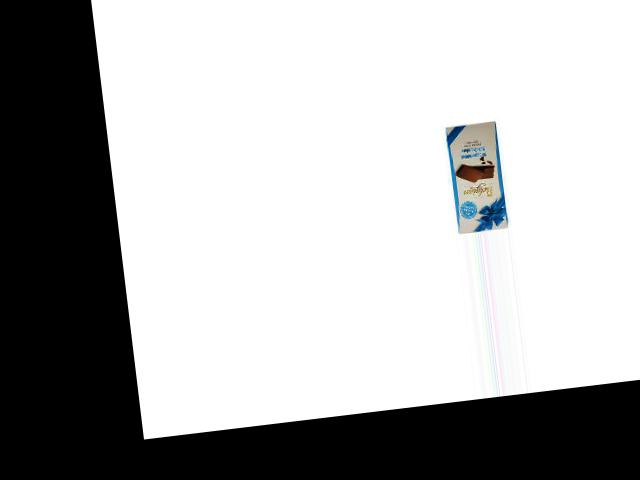chocolate: (440, 117, 515, 235)
